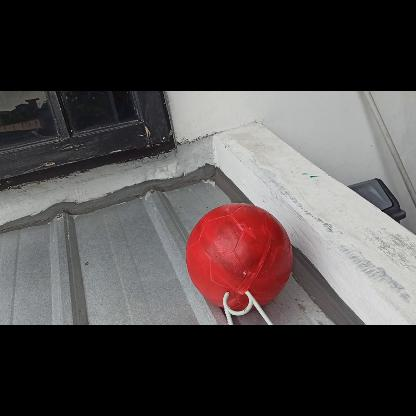red_ball: (183, 202, 292, 312)
